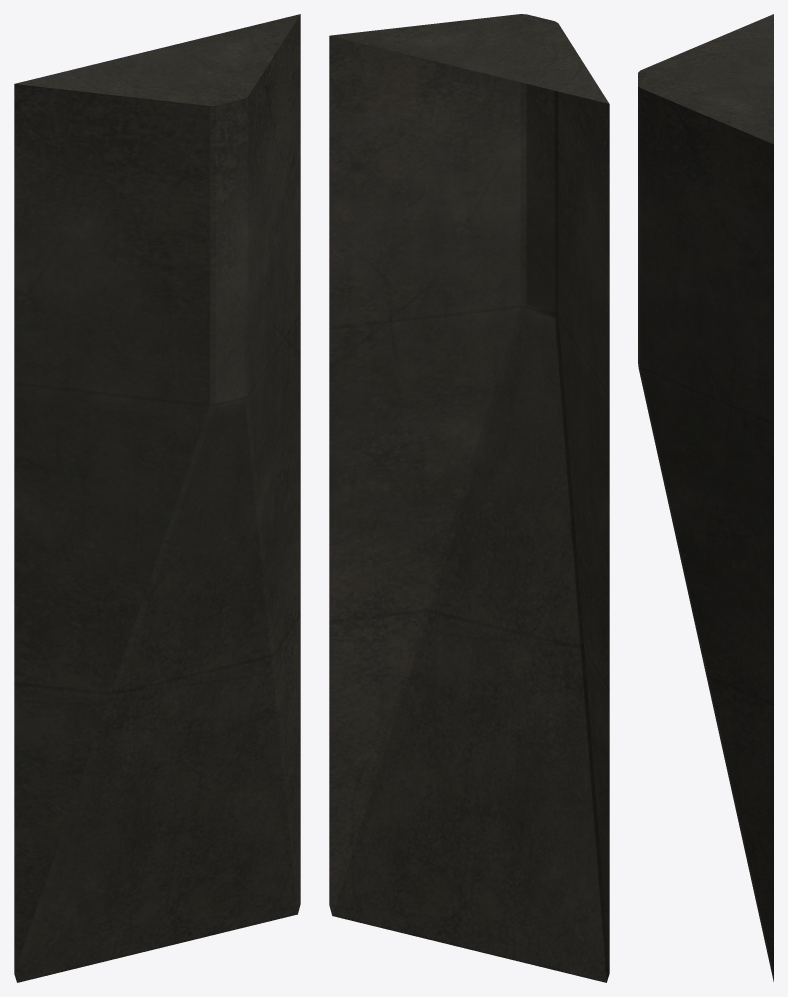
File: wall_element_2_bottom.fbx
3 views of the same model, side by side, from view 1: azimuth 30°, elevation 25°; view 2: azimuth 150°, elevation 25°; view 3: azimuth 270°, elevation 25° (orthographic). The views are drawn at different scales.
Parts seen in each view (by area): view 1: wall_element_2_bottom; view 2: wall_element_2_bottom; view 3: wall_element_2_bottom.
Part boxes in pixels (left/top/right/bottom): wall_element_2_bottom: left=14, top=14, right=300, bottom=982; wall_element_2_bottom: left=329, top=14, right=609, bottom=982; wall_element_2_bottom: left=638, top=14, right=773, bottom=981.
Bounding box in the file's own units: 1 × 0.44 × 3.
